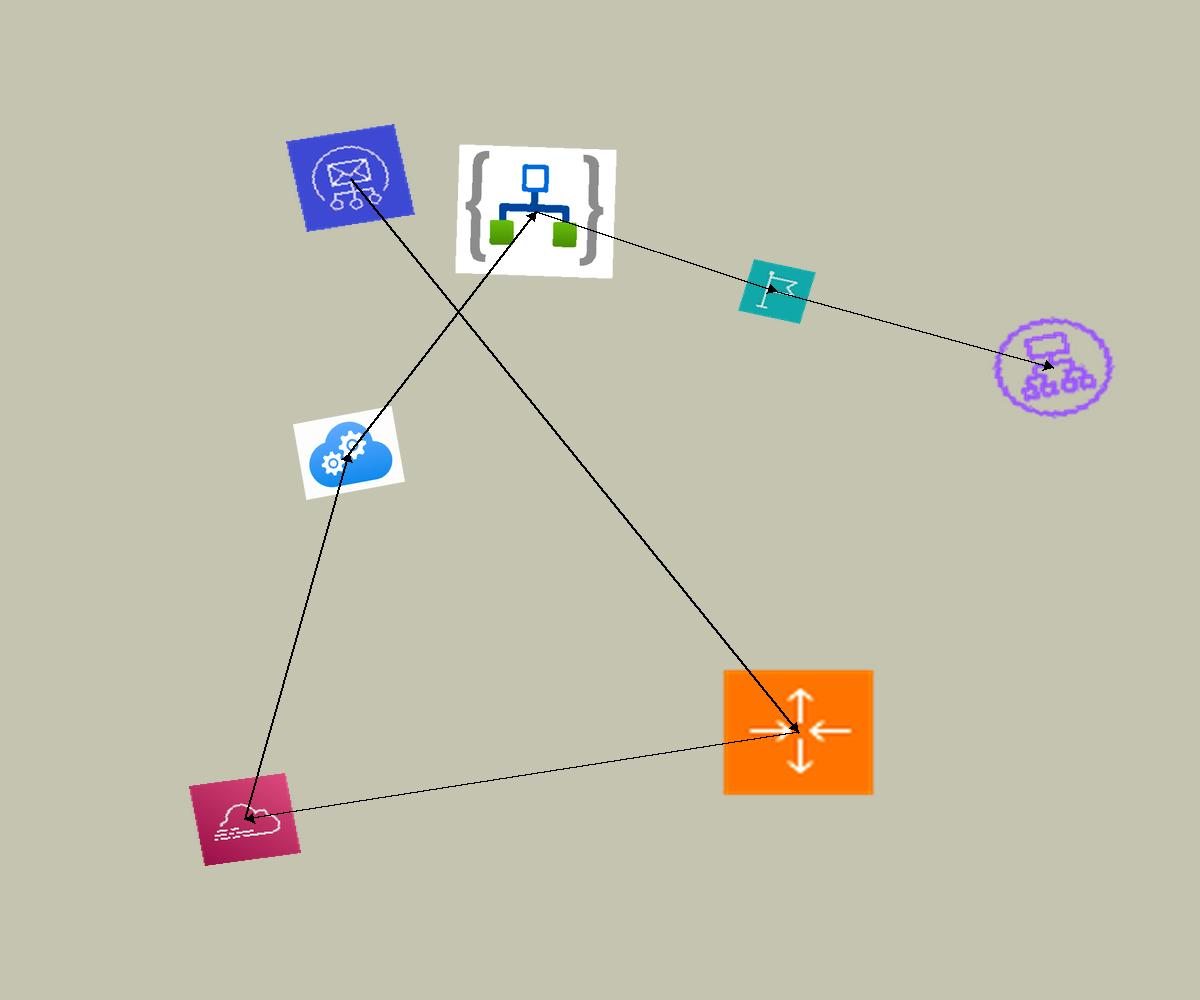AWS-CloudTrail: (189, 773, 301, 866)
AWS-Region: (738, 259, 816, 324)
AWS-Res_Elastic-Load-Balancing_Application-Load-Balancer: (976, 303, 1131, 432)
AWS-Scaling-group: (720, 667, 877, 798)
AWS-Simple-Email-Service: (286, 124, 415, 232)
Azure_cloud_services: (293, 406, 405, 500)
Azure_integration-204-Logic-Apps: (455, 144, 617, 279)
